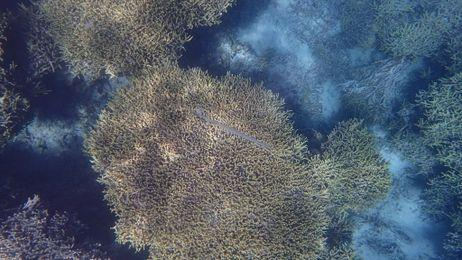Fistularia commersonii: (182, 110, 314, 164)
